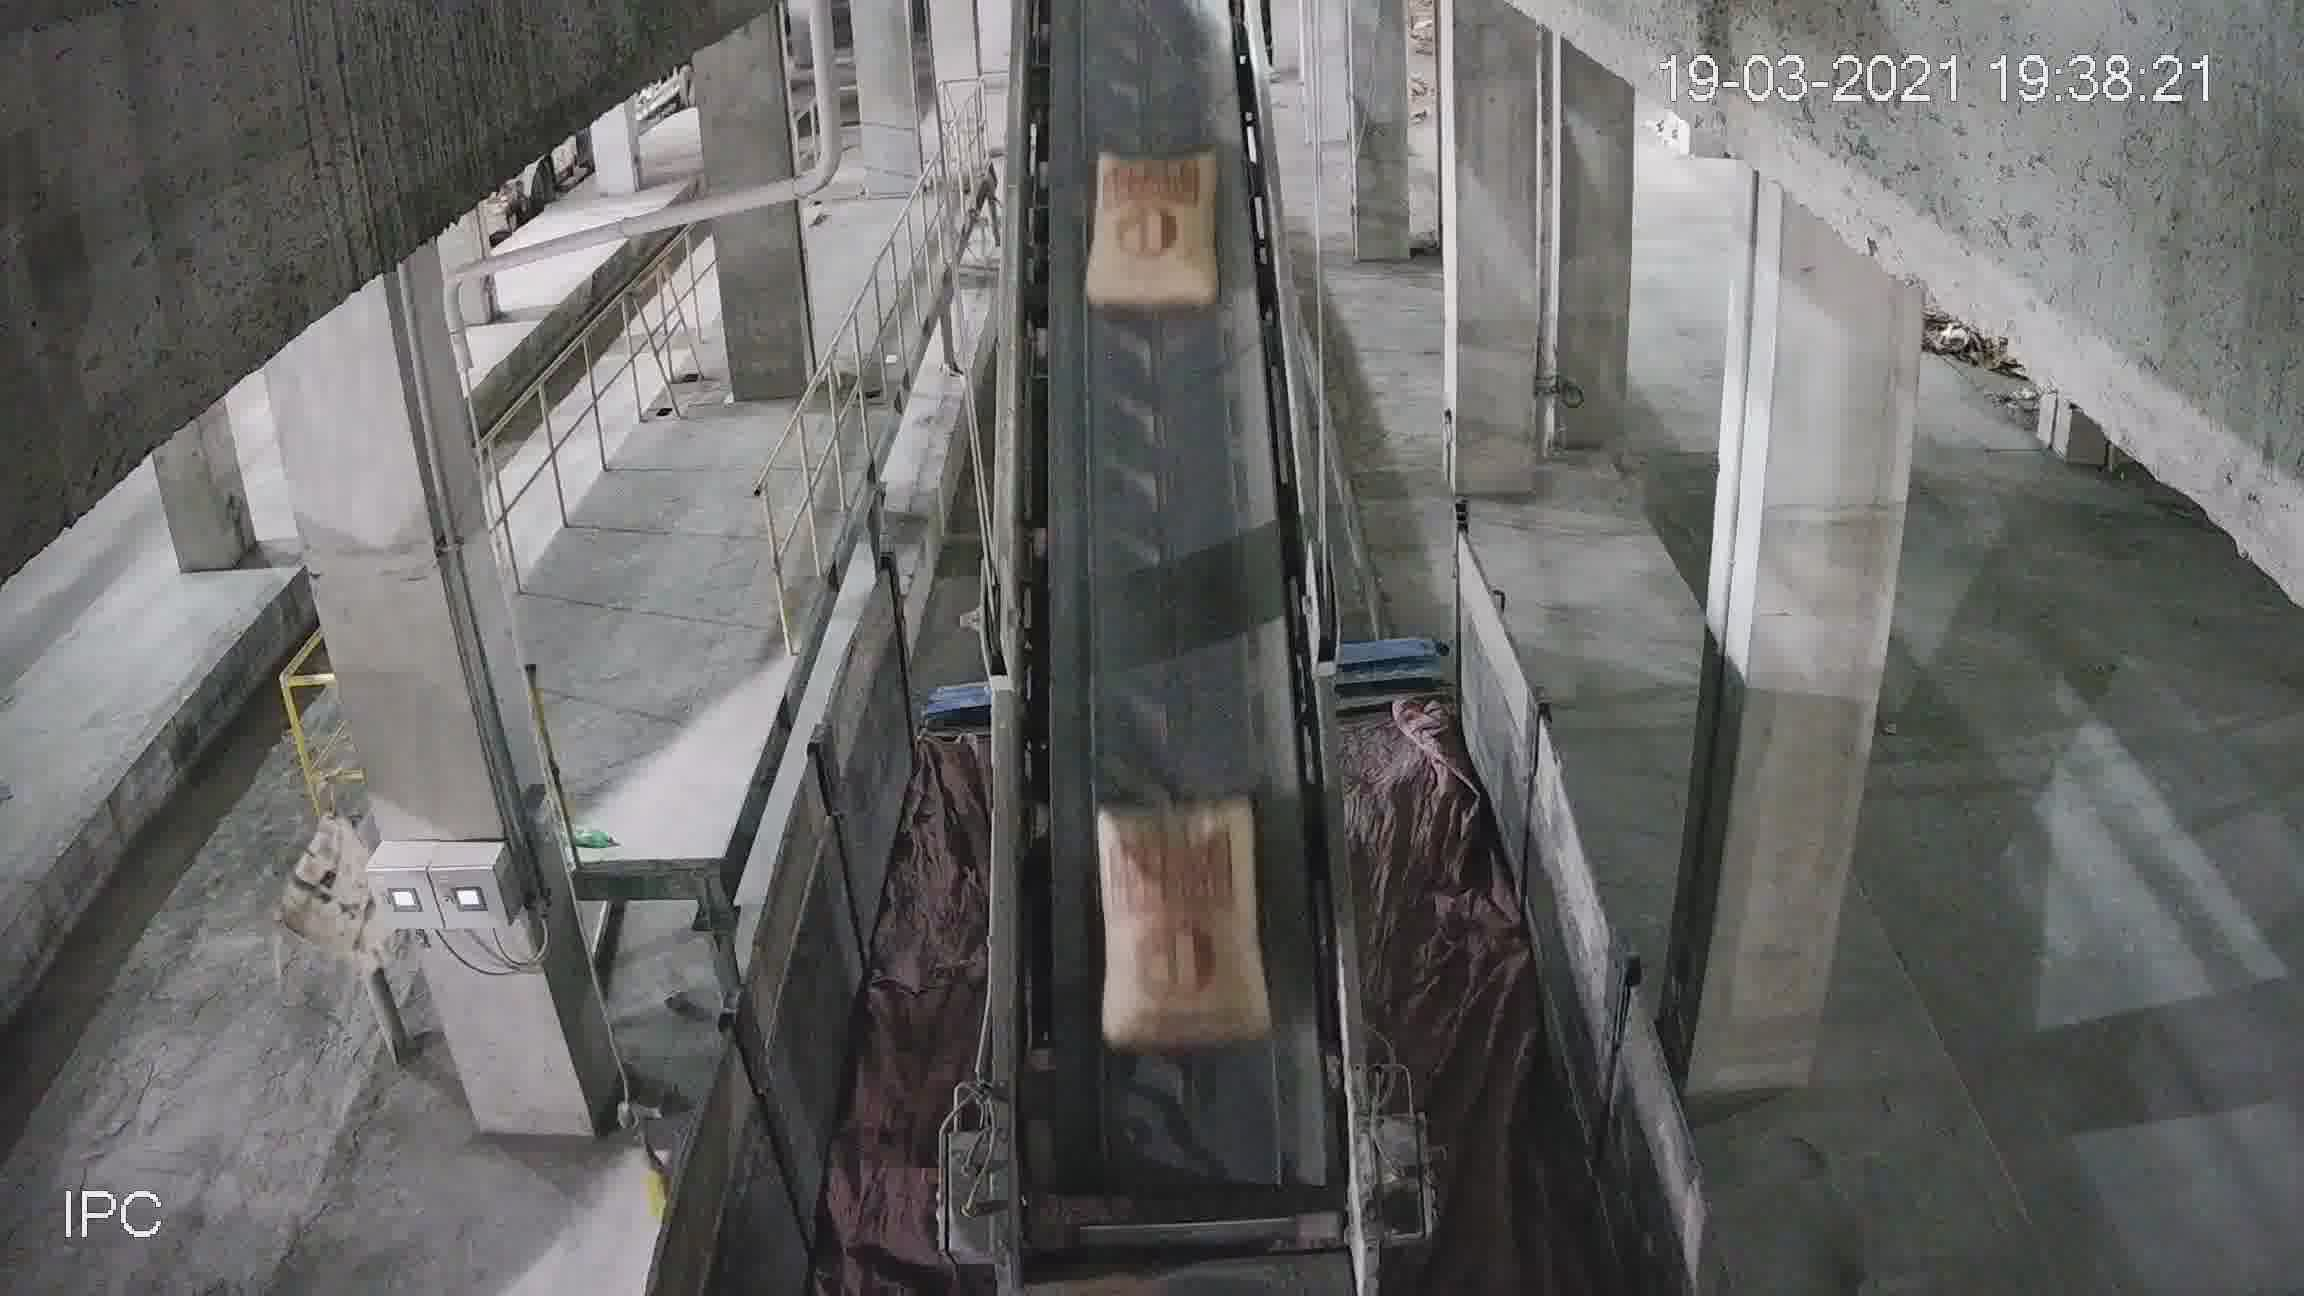bag: (1098, 794, 1264, 1049), (1089, 161, 1218, 307)
belt: (997, 180, 1339, 1260)
